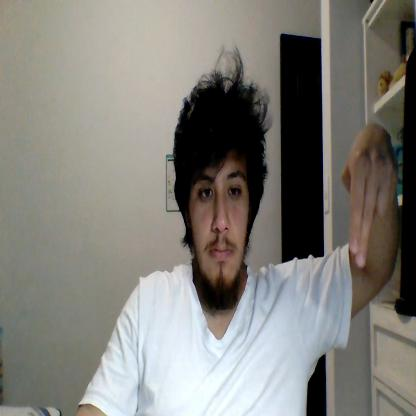N: (342, 122, 398, 267)
